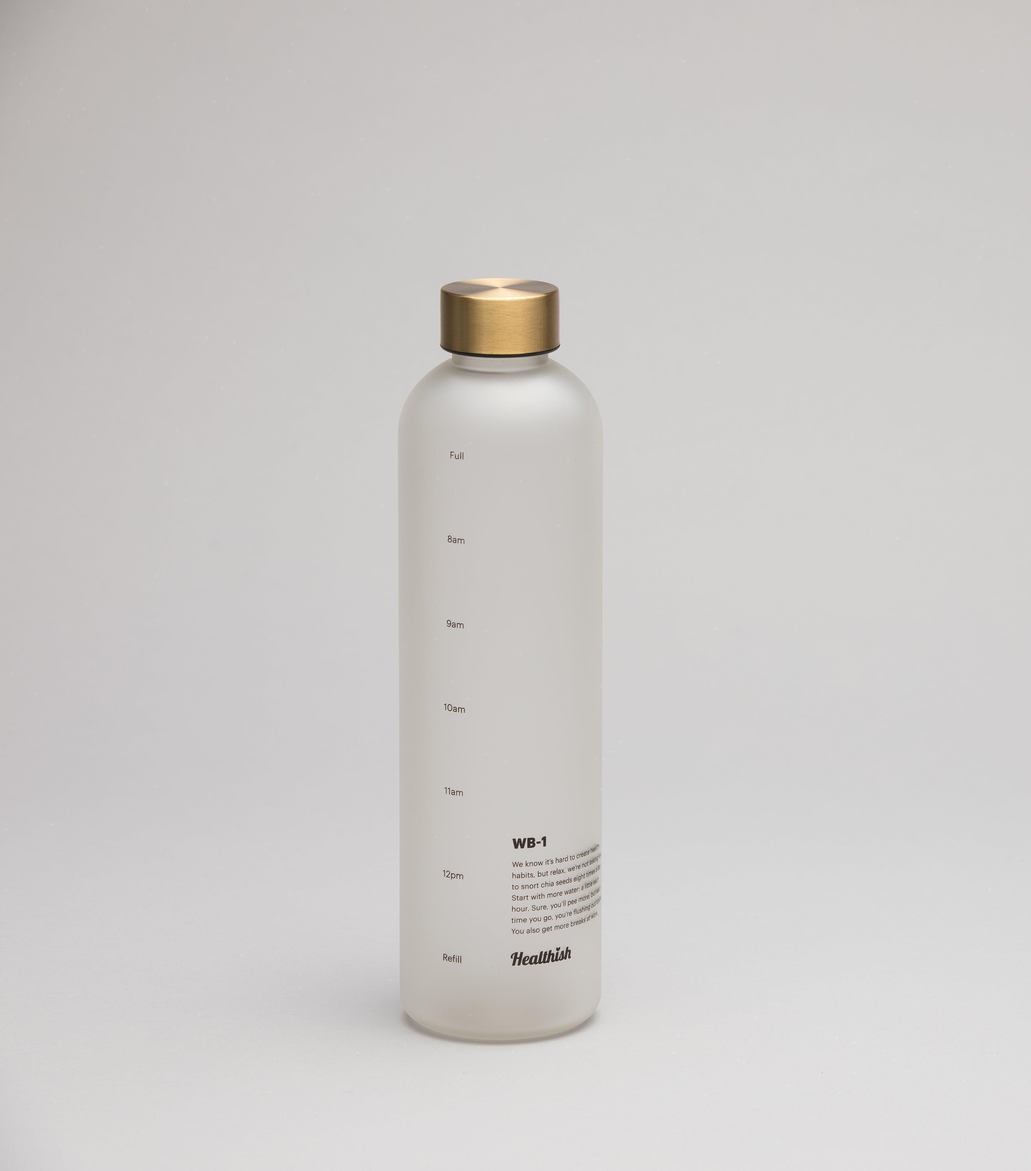gym bottle: (389, 273, 612, 1049)
